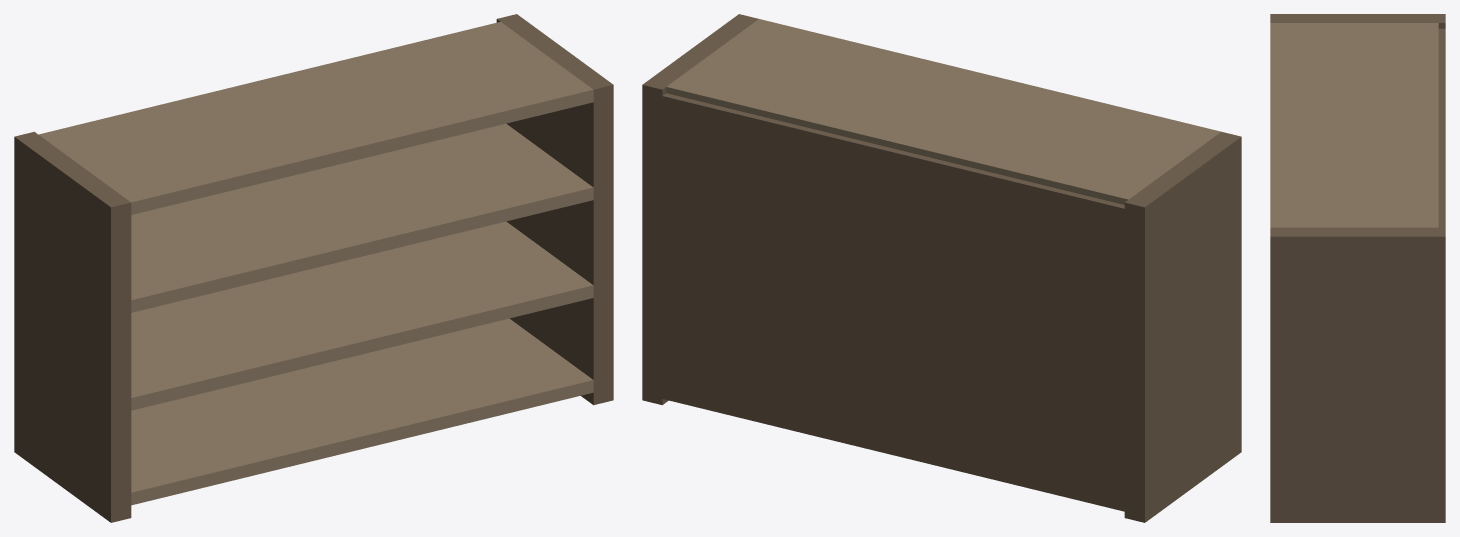
File: shelf.glb
3 renders of one model, left to right at view 1: azimuth 30°, elevation 25°; view 2: azimuth 150°, elevation 25°; view 3: azimuth 270°, elevation 25°, orthographic. The views are drawn at different scales.
Visible parts, largest first — view 1: shelf; view 2: shelf; view 3: shelf.
Part boxes in pixels (left/top/right/bottom): shelf: left=14, top=14, right=613, bottom=522; shelf: left=642, top=14, right=1241, bottom=522; shelf: left=1270, top=14, right=1445, bottom=522.
Size of the model in its own units: 3 by 1.8 by 1.
